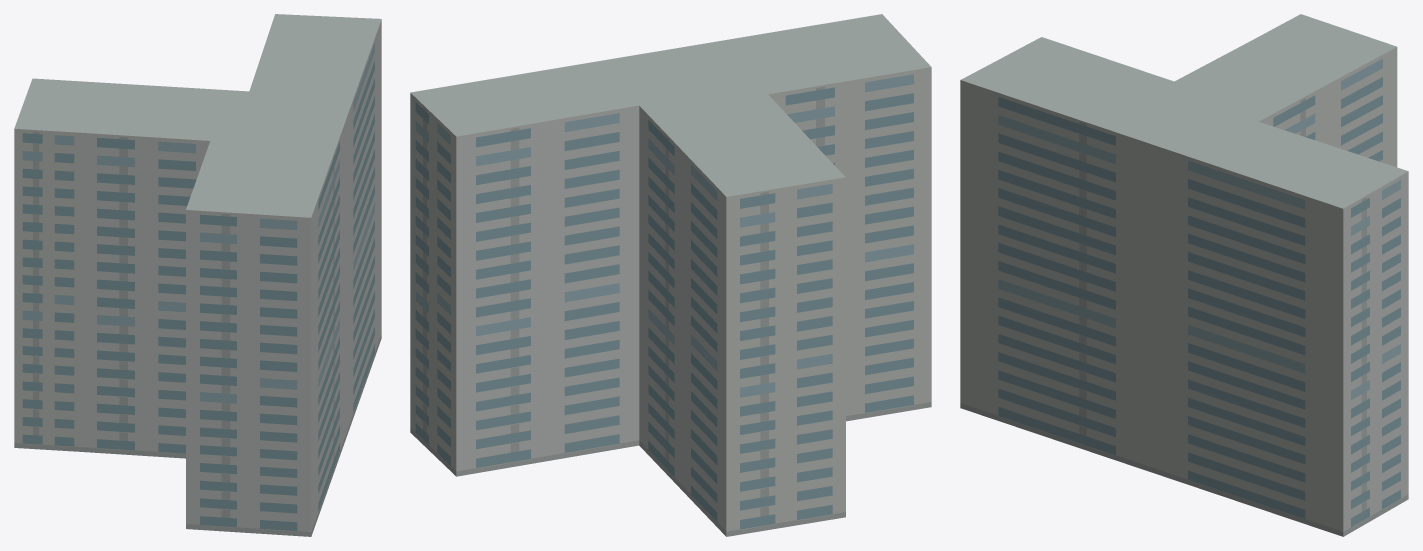
The model's file is residential-8ba7ada4-3d62-410c-834a-6fad9f36435c.glb.
3 renders of one model, left to right at view 1: azimuth 30°, elevation 25°; view 2: azimuth 150°, elevation 25°; view 3: azimuth 270°, elevation 25°, orthographic. The views are drawn at different scales.
Visible parts, largest first — view 1: residential-8ba7ada4-3d62-410c-834a-6fad9f36435c.tmp; view 2: residential-8ba7ada4-3d62-410c-834a-6fad9f36435c.tmp; view 3: residential-8ba7ada4-3d62-410c-834a-6fad9f36435c.tmp.
Boxes of the visible parts, x1,y1,x2,y2 form: residential-8ba7ada4-3d62-410c-834a-6fad9f36435c.tmp: (14,14,381,536); residential-8ba7ada4-3d62-410c-834a-6fad9f36435c.tmp: (410,14,931,536); residential-8ba7ada4-3d62-410c-834a-6fad9f36435c.tmp: (960,14,1408,536).
Bounding box in the file's own units: 61.12 × 48 × 59.41.
